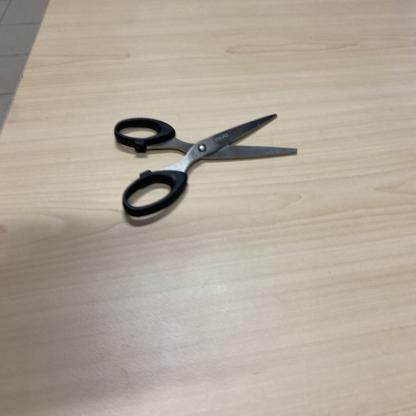scissors: (113, 109, 300, 223)
